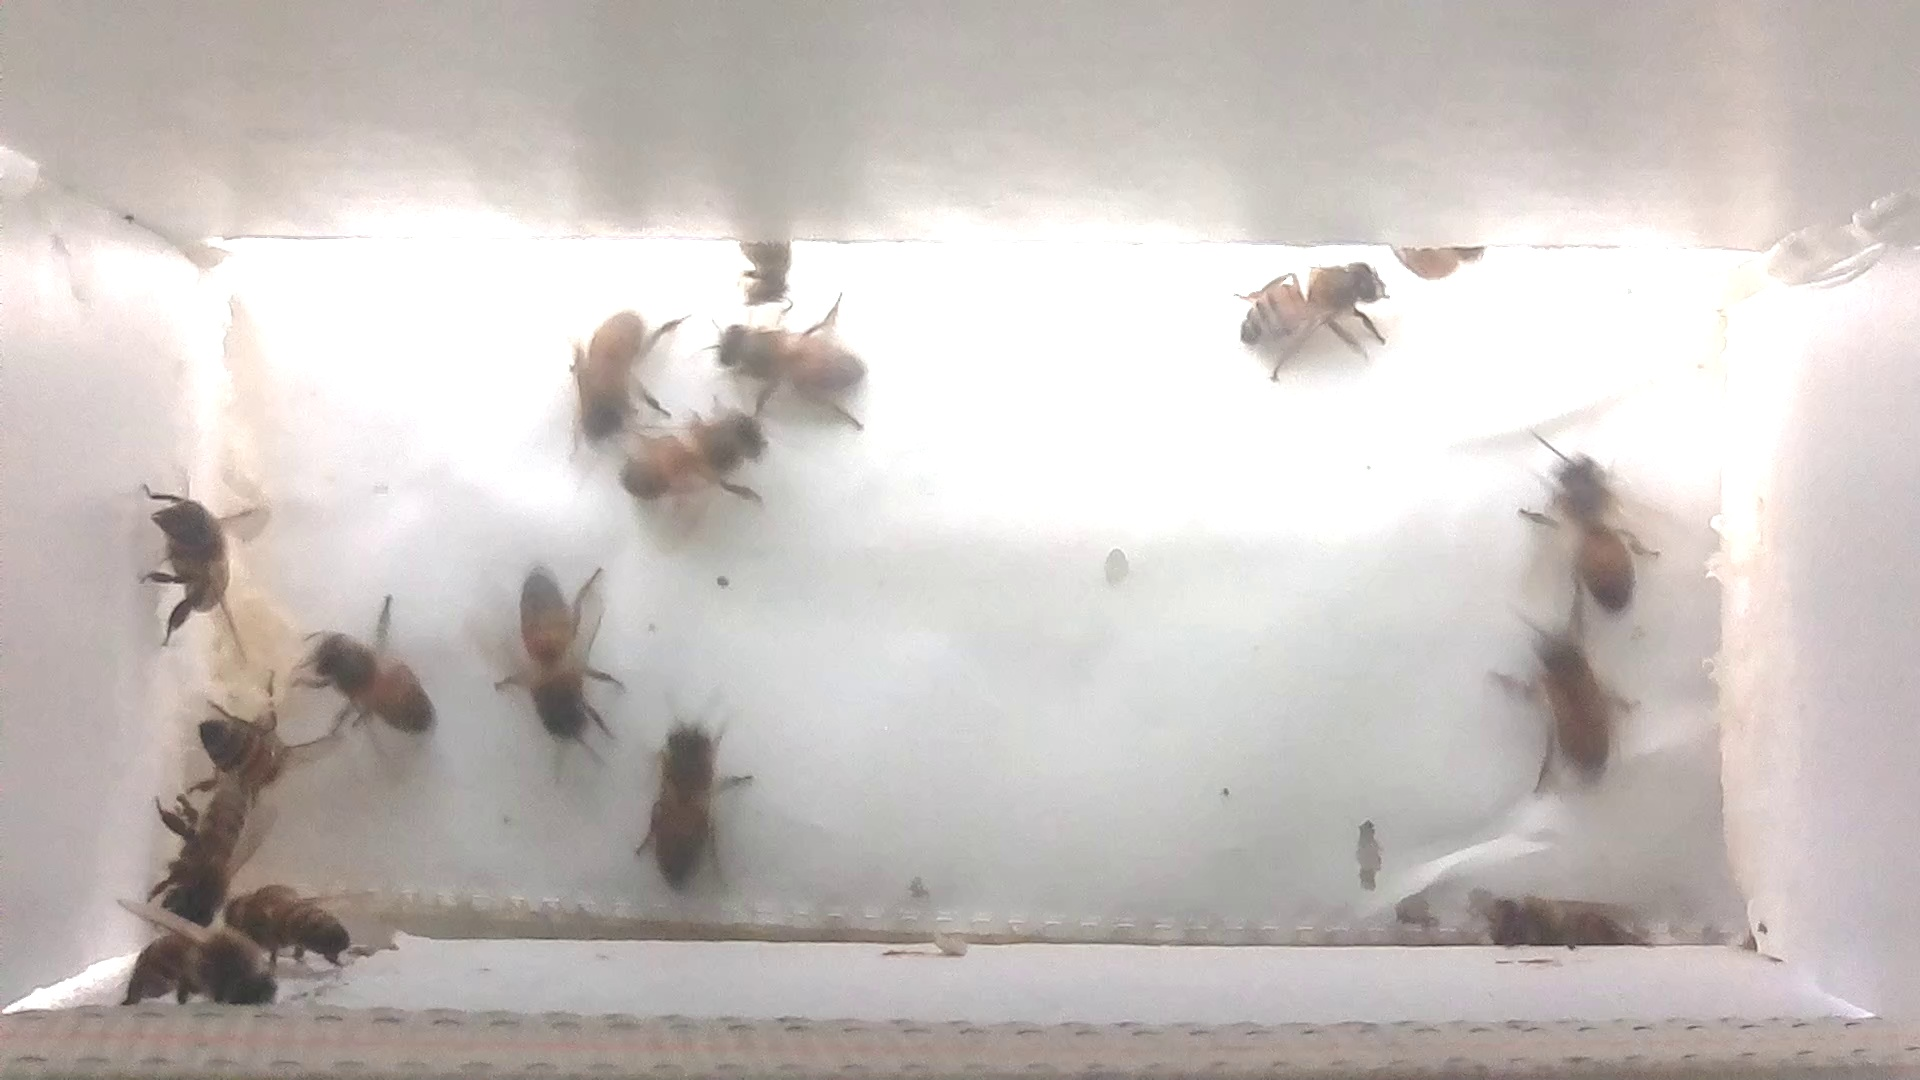bee: (1501, 414, 1671, 620), (1473, 596, 1651, 790), (269, 588, 448, 770), (481, 560, 630, 779), (609, 694, 764, 905), (123, 451, 268, 674), (105, 884, 294, 1035), (525, 278, 686, 454), (1208, 239, 1393, 378), (105, 753, 248, 924), (605, 396, 789, 524), (708, 301, 884, 431), (203, 855, 371, 976), (169, 675, 305, 798), (1480, 885, 1658, 969), (699, 223, 814, 324), (1375, 224, 1495, 294)
